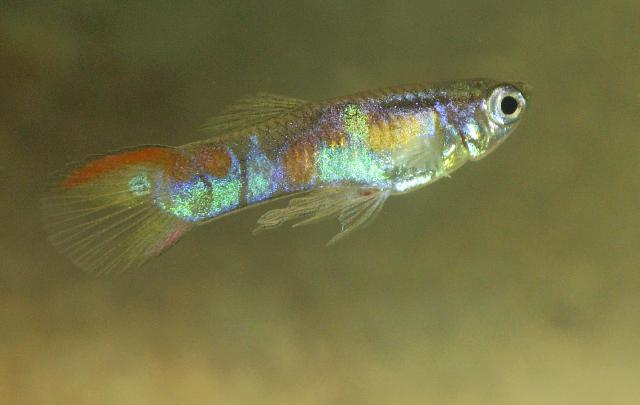Mulut: (488, 66, 540, 122)
Sirip Anal: (236, 178, 366, 244)
Sirip Dada: (375, 120, 467, 186)
Sirip Ekor: (18, 128, 200, 296)
Sirip Perut: (319, 187, 389, 258)
Sirip Punggung: (189, 71, 317, 155)
